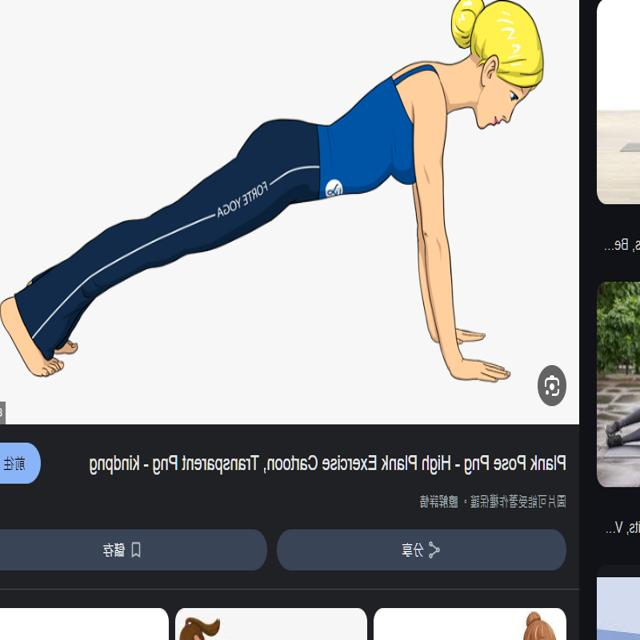Plank_Pose: (1, 1, 553, 397)
